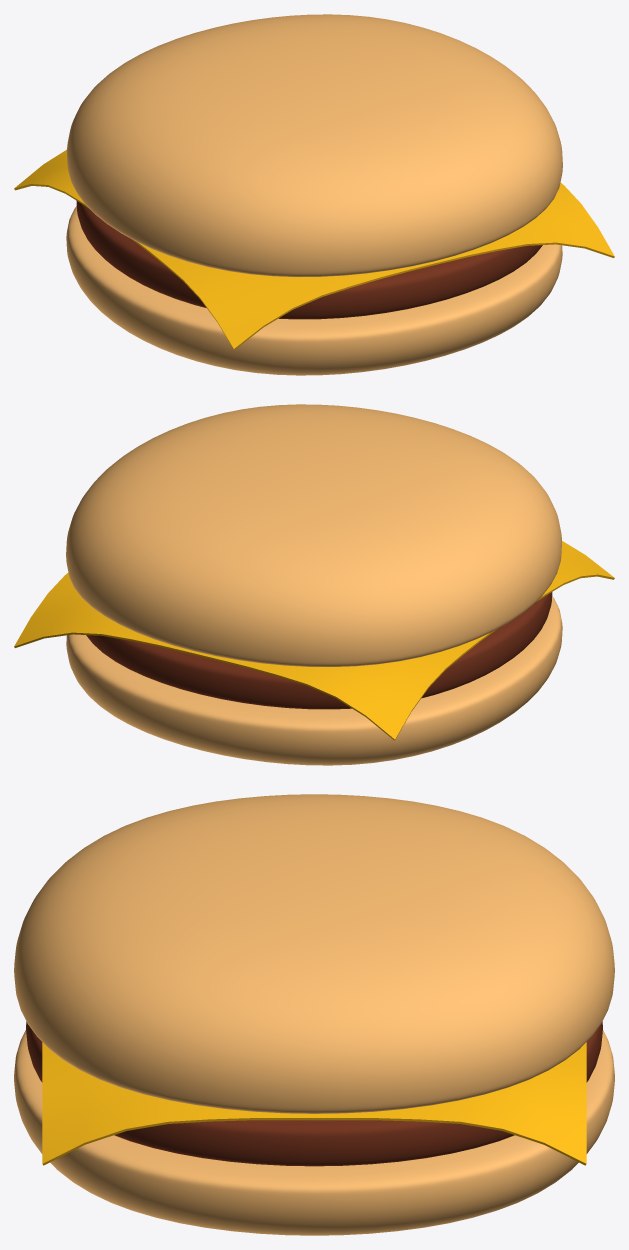
Rendered from hamburger.glb.
The picture shows the model from 3 angles, top to bottom: view 1: azimuth 30°, elevation 25°; view 2: azimuth 150°, elevation 25°; view 3: azimuth 270°, elevation 25°; orthographic projection. The views are drawn at different scales.
Parts seen in each view (by area): view 1: top bun, bottom bun, cheese, meat; view 2: top bun, bottom bun, cheese, meat; view 3: top bun, bottom bun, cheese, meat.
Boxes of the visible parts, left/top/right/bottom form: top bun: left=67, top=14, right=562, bottom=276; bottom bun: left=66, top=206, right=562, bottom=375; cheese: left=14, top=149, right=614, bottom=349; meat: left=76, top=200, right=542, bottom=319; top bun: left=66, top=404, right=561, bottom=666; bottom bun: left=66, top=596, right=562, bottom=765; cheese: left=14, top=541, right=614, bottom=740; meat: left=86, top=592, right=552, bottom=709; top bun: left=14, top=794, right=614, bottom=1113; bottom bun: left=14, top=1030, right=614, bottom=1235; cheese: left=42, top=1042, right=586, bottom=1165; meat: left=26, top=1021, right=602, bottom=1166.
Bounding box in the file's own units: 10.98 × 5.47 × 10.97.
